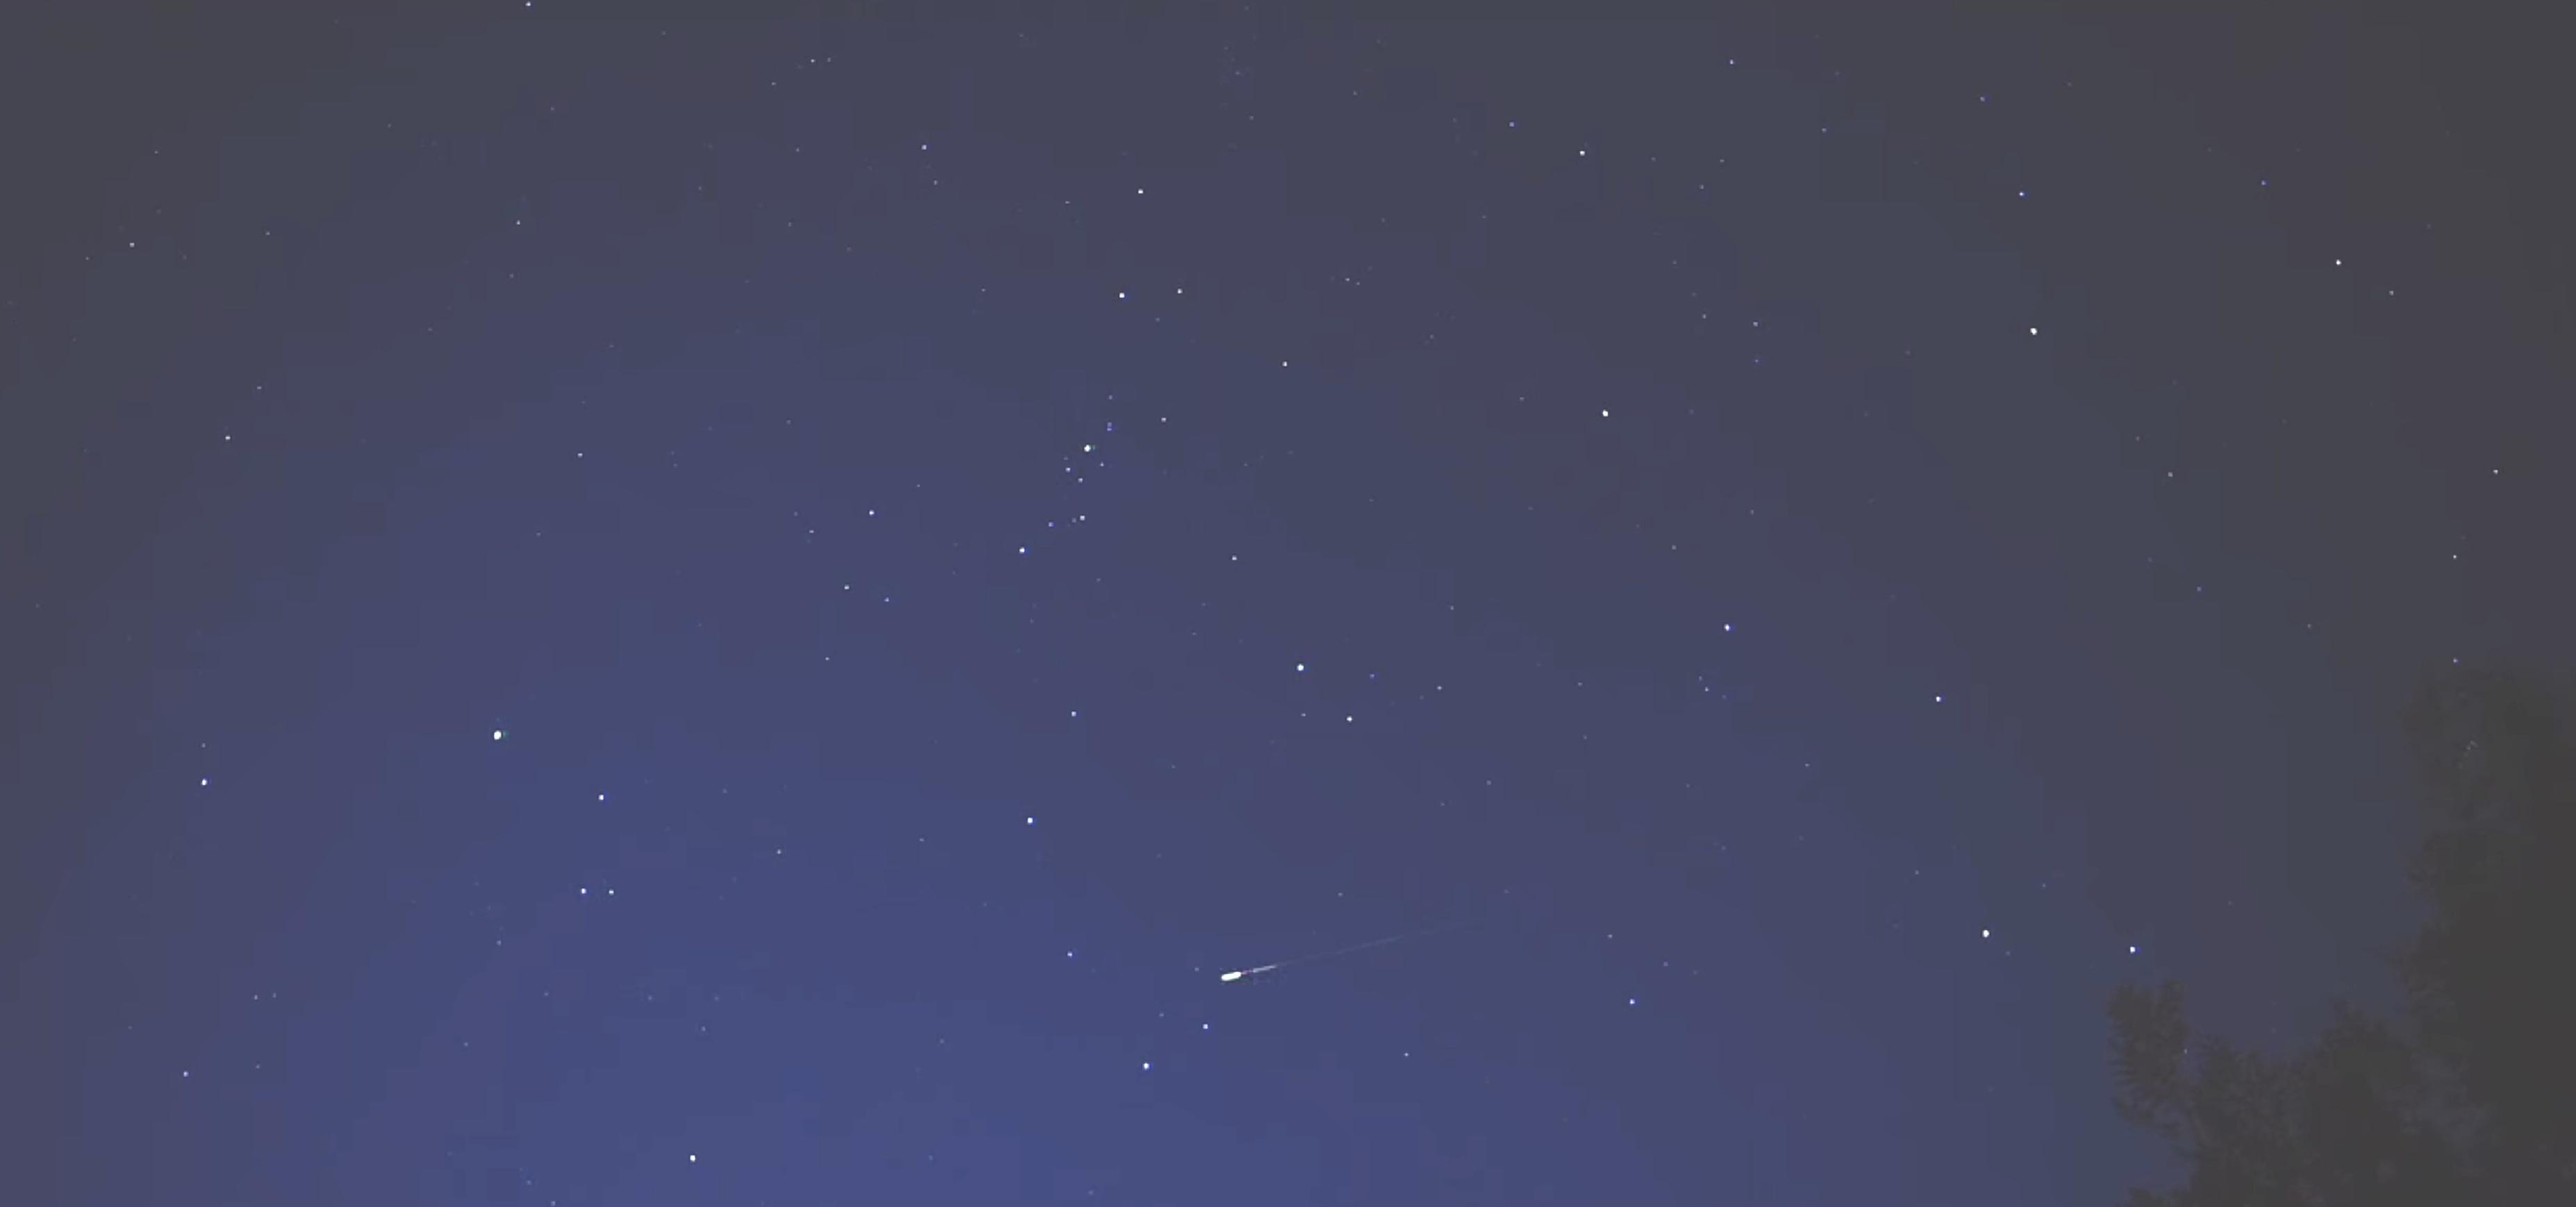meteorite: (1171, 905, 1444, 997)
